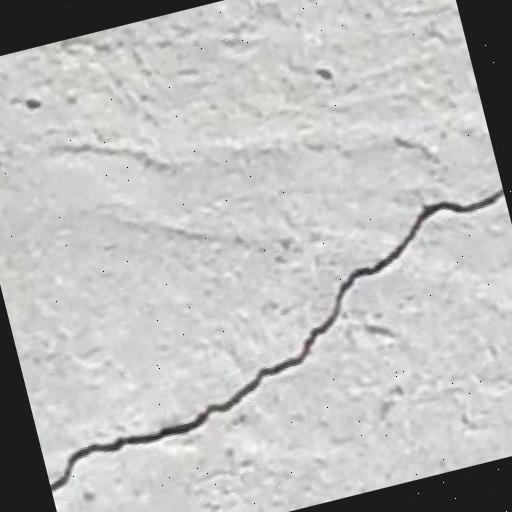spalling: (41, 179, 500, 504)
